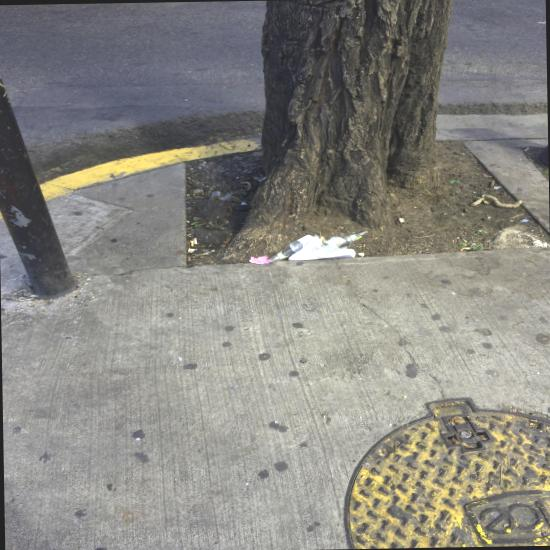Cigarette: (193, 237, 196, 244), (190, 241, 193, 246)
Glass bottle: (311, 229, 369, 257), (269, 231, 320, 262)
Normal paper: (288, 237, 355, 260)
